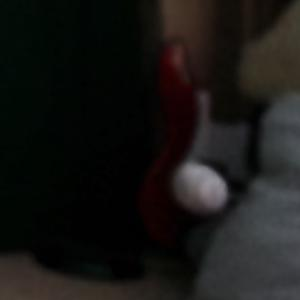ball: (169, 158, 231, 221)
